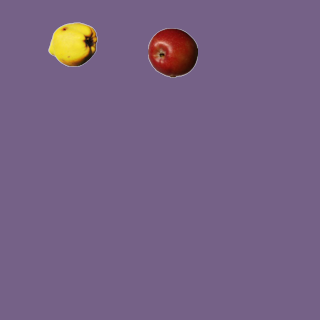Apple Braeburn: (147, 27, 197, 77)
Quince: (47, 19, 97, 69)
